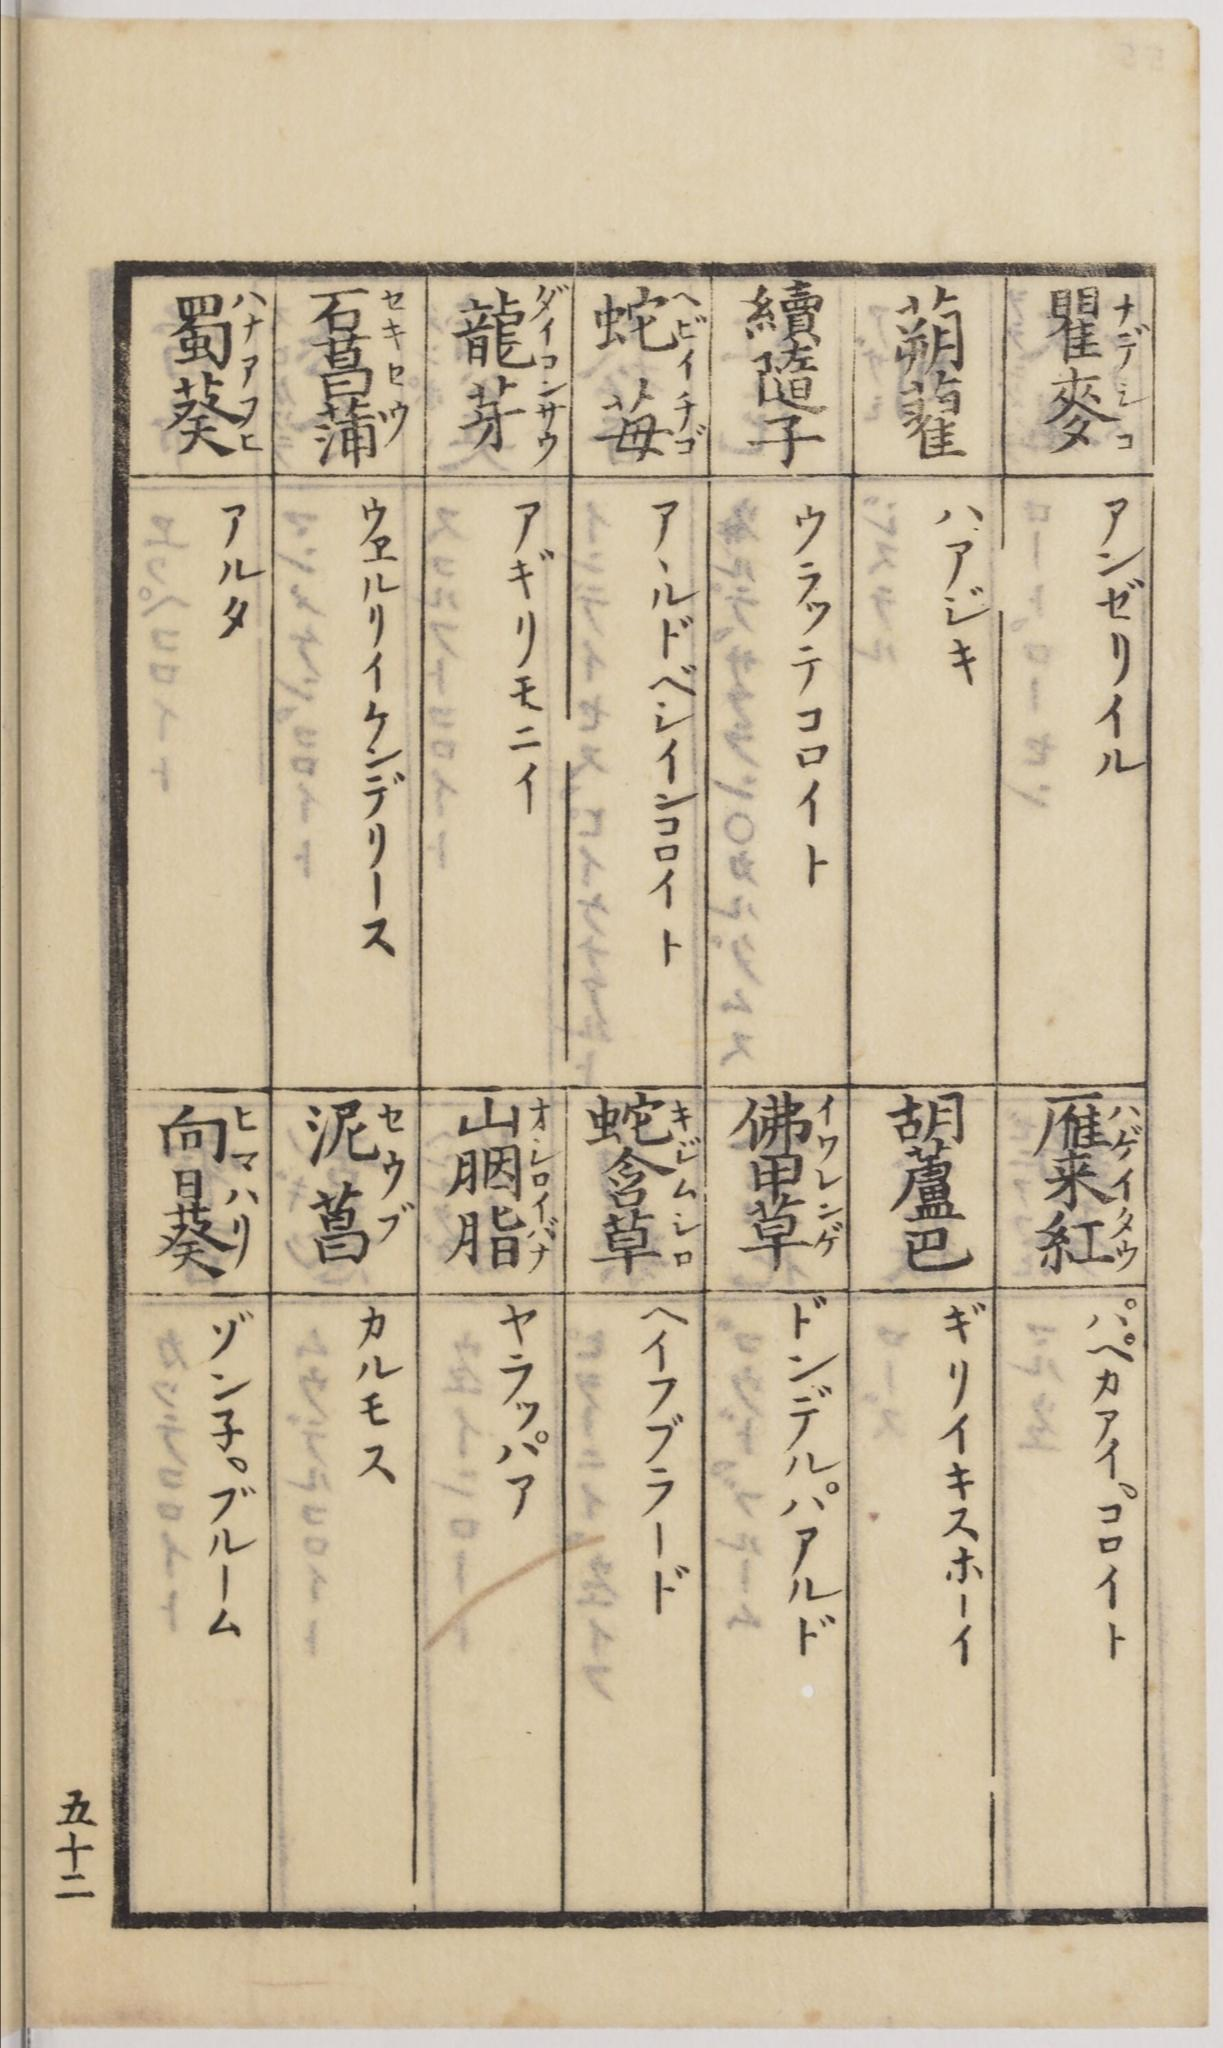MainZone-Character: (147, 1169, 264, 1290), (447, 376, 572, 470), (447, 281, 572, 373), (438, 1191, 566, 1277), (588, 290, 712, 378), (587, 380, 709, 464), (1035, 370, 1150, 459), (159, 282, 268, 376), (296, 1186, 418, 1269), (149, 377, 269, 460), (298, 1099, 415, 1185), (1040, 287, 1153, 370), (727, 1195, 850, 1271), (1022, 1205, 1146, 1277), (310, 282, 412, 365), (585, 1141, 705, 1207), (1034, 1092, 1144, 1160), (159, 1099, 264, 1170), (588, 1210, 705, 1274), (1022, 1150, 1141, 1211), (307, 397, 413, 466), (443, 1140, 561, 1199), (731, 1098, 844, 1157), (581, 1087, 705, 1140), (446, 1092, 556, 1140), (737, 1156, 846, 1191), (313, 364, 409, 396)
MainZone-Ruby: (530, 284, 572, 373), (670, 290, 708, 376), (221, 1183, 262, 1262), (524, 1191, 562, 1275), (373, 1105, 411, 1188), (533, 376, 566, 469), (233, 287, 266, 377), (1109, 293, 1150, 365), (671, 390, 711, 463), (1111, 381, 1146, 453), (229, 1102, 261, 1170), (1108, 1098, 1143, 1159), (376, 1196, 416, 1247), (1109, 1205, 1139, 1274), (810, 1199, 844, 1256), (380, 288, 411, 352), (667, 1210, 700, 1266), (237, 393, 266, 457), (673, 1140, 702, 1202), (812, 1098, 842, 1153), (527, 1147, 559, 1188), (384, 397, 409, 445), (810, 1163, 842, 1192), (668, 1095, 693, 1131), (1108, 1163, 1134, 1195), (386, 362, 408, 392), (527, 1095, 546, 1128)
